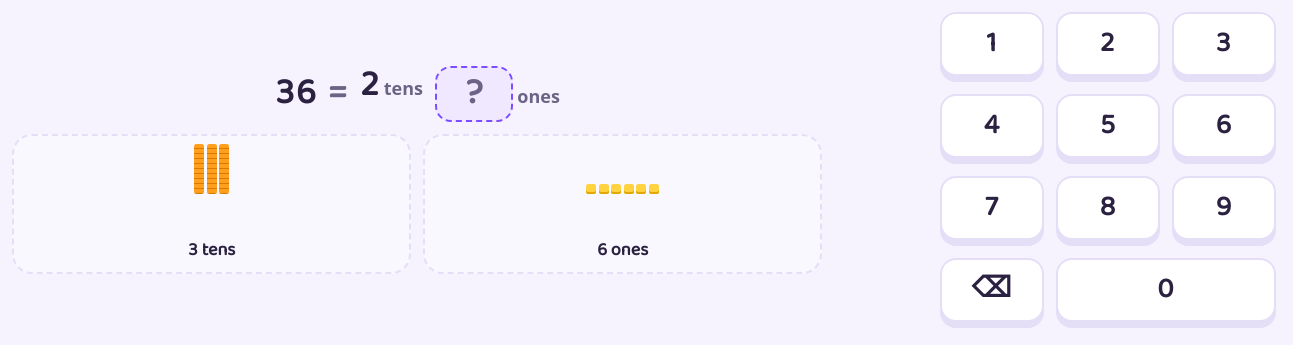
Test case: TradeBlocksQuestion (AC8) › tapping the tens breaks a rod into 10 cubes and updates the count
The width and height of the screenshot is (1293, 345).
Click the button with test id "place-tens".
click(212, 250)  # box left=12, top=134, right=411, bottom=274
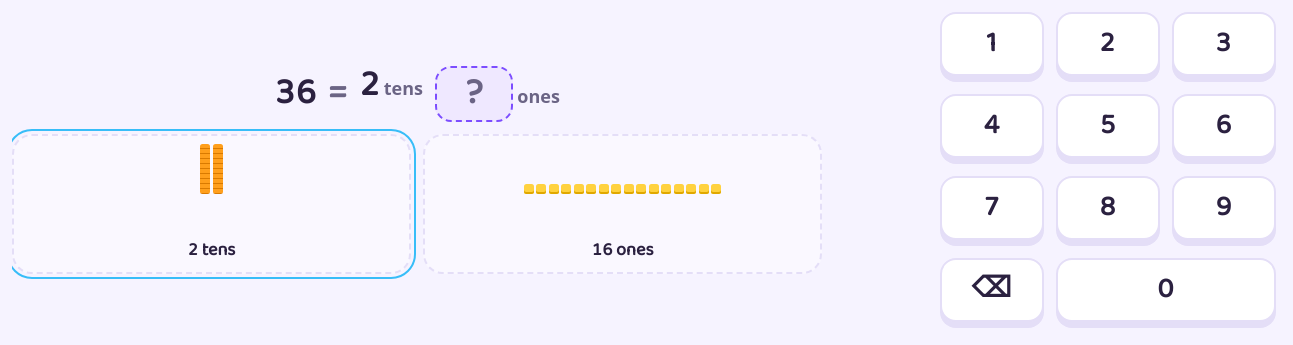
Expected: the button with test id "place-tens" reads "2 tens", left=12, top=134, right=411, bottom=274
Expected: the button with test id "place-ones" reads "16 ones", left=423, top=134, right=822, bottom=274
Expected: the number of elements with class "block--new" is 10
